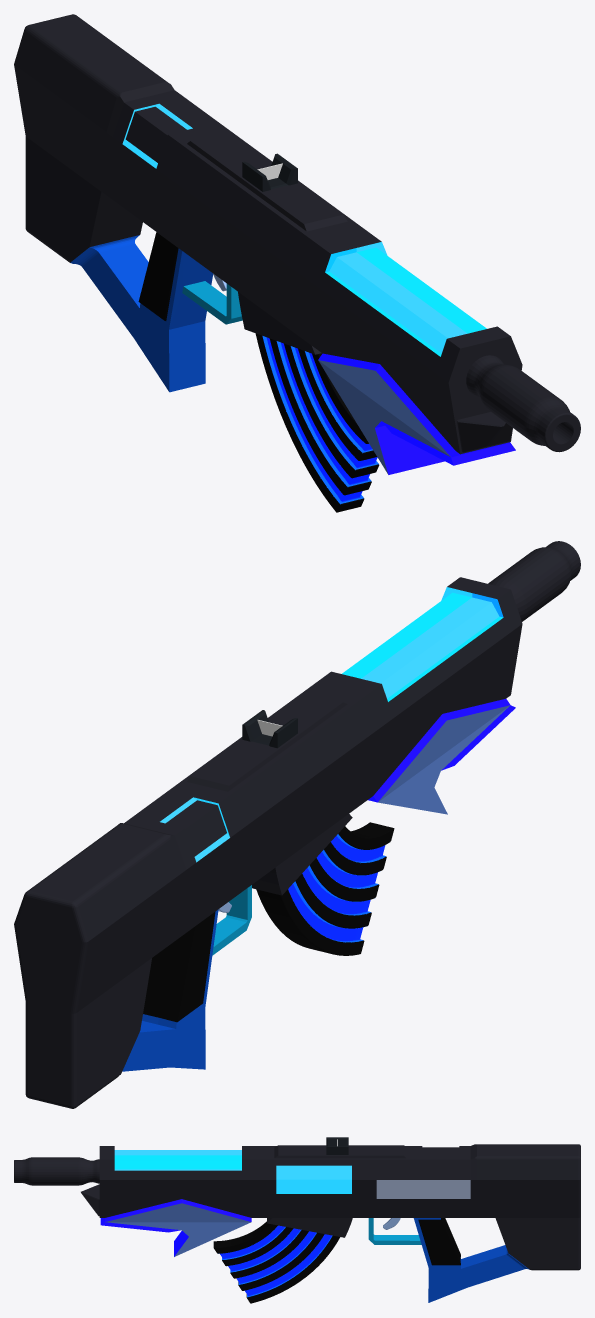
The model's file is Energizer.fbx.
3 views of the same model, one above another, from view 1: azimuth 30°, elevation 25°; view 2: azimuth 150°, elevation 25°; view 3: azimuth 270°, elevation 25° (orthographic). The views are drawn at different scales.
Visible parts, largest first — view 1: Rifle; view 2: Rifle; view 3: Rifle.
Boxes of the visible parts, left/top/right/bottom form: Rifle: left=14, top=14, right=580, bottom=512; Rifle: left=14, top=541, right=580, bottom=1108; Rifle: left=14, top=1137, right=580, bottom=1303.
Size of the model in its own units: 0.053 by 0.1966 by 0.6386.
